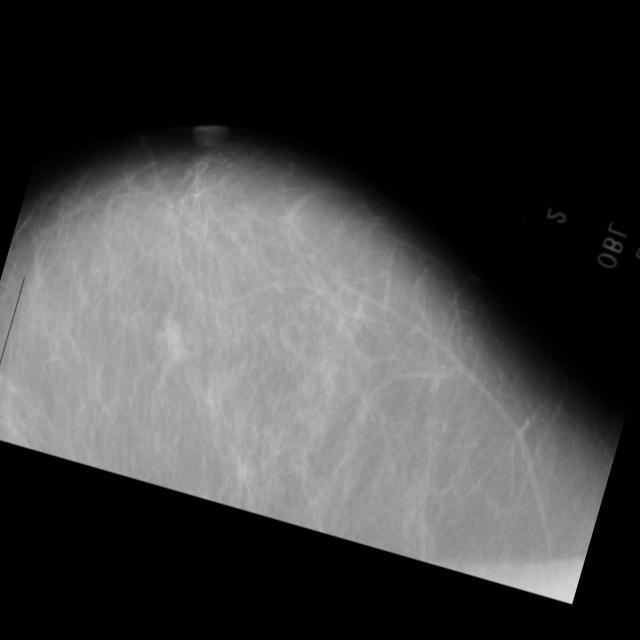ASYM: (159, 10, 640, 448)
